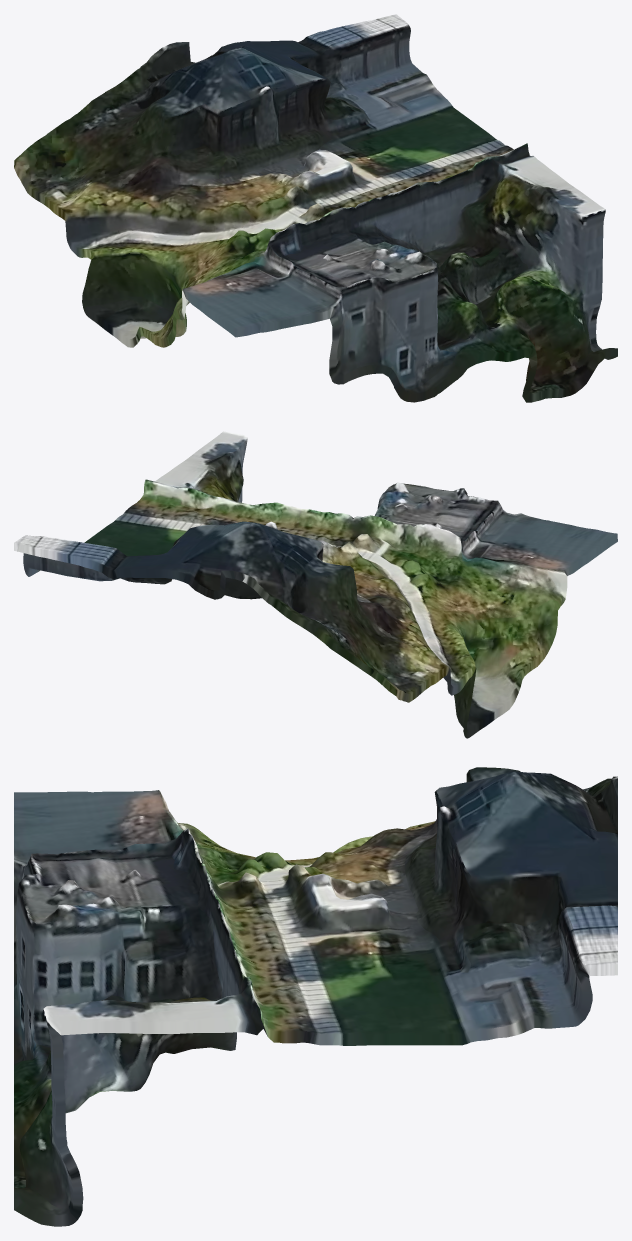
Rendered from z20-167722-405194-h0-yup-uvflip-v3-world.glb.
3 renders of one model, top to bottom at view 1: azimuth 30°, elevation 25°; view 2: azimuth 150°, elevation 25°; view 3: azimuth 270°, elevation 25°, orthographic. The views are drawn at different scales.
Bounding box in the file's own units: 30.2 × 18.76 × 30.32.
1 material, 1 textured.
